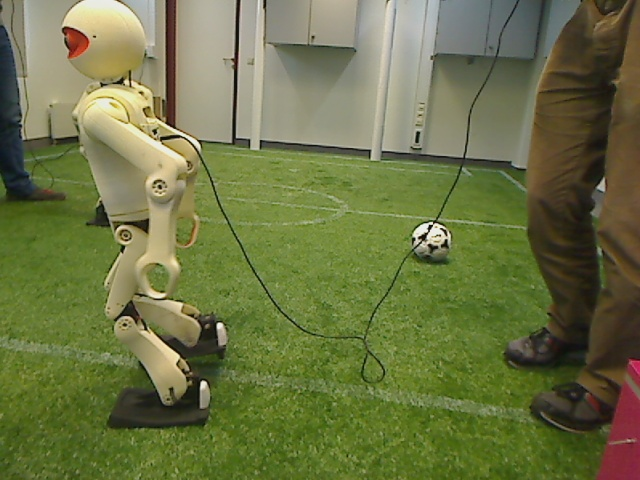ball: (407, 219, 454, 265)
robot: (56, 1, 229, 431)
